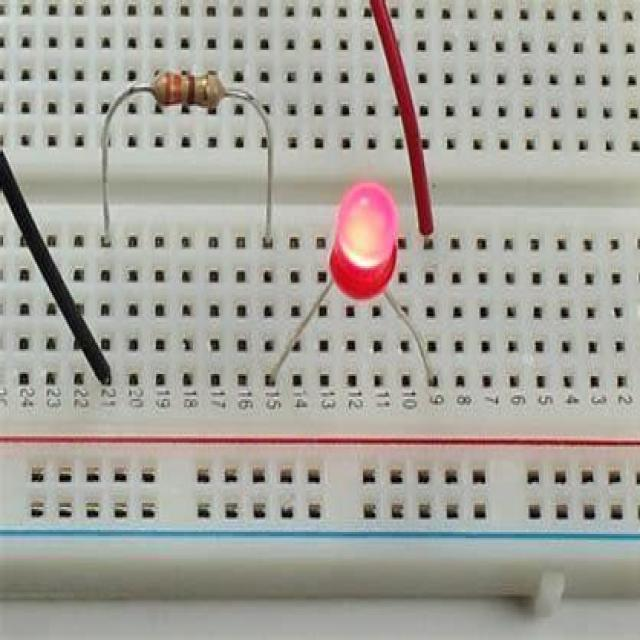Led: (270, 183, 434, 384)
Resistor: (101, 71, 271, 235)
